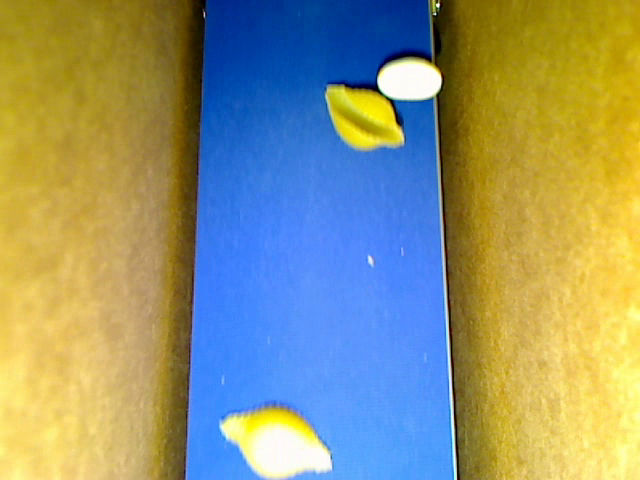shell: (218, 404, 332, 478), (324, 85, 403, 150)
